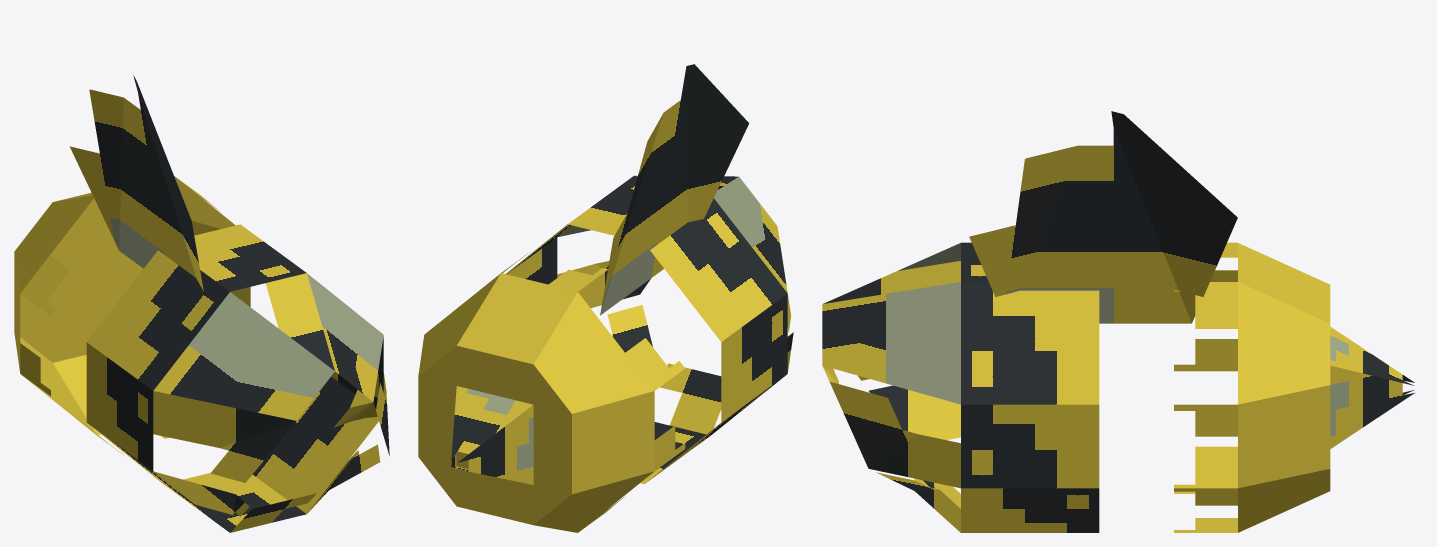
The model's file is bee.obj.
3 views of the same model, side by side, from view 1: azimuth 30°, elevation 25°; view 2: azimuth 150°, elevation 25°; view 3: azimuth 270°, elevation 25° (orthographic). The views are drawn at different scales.
Parts seen in each view (by area): view 1: bee; view 2: bee; view 3: bee.
Part boxes in pixels (left/top/right/bottom): bee: left=14, top=75, right=389, bottom=532; bee: left=418, top=64, right=793, bottom=532; bee: left=822, top=111, right=1414, bottom=532.
Bounding box in the file's own units: 1.5 × 2.75 × 3.25.
Materials: 1 (1 with a texture image).
